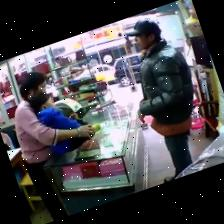person: (14, 72, 92, 220), (126, 19, 193, 182), (29, 93, 80, 130)
